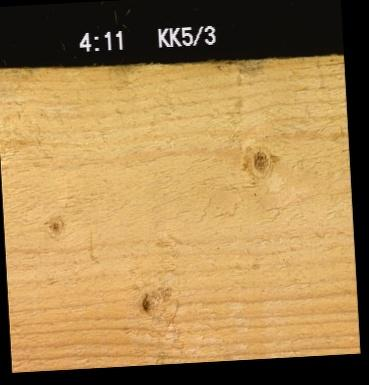small_knot: (45, 213, 63, 233)
sound_knot: (239, 144, 278, 177)
split: (299, 53, 343, 96)
